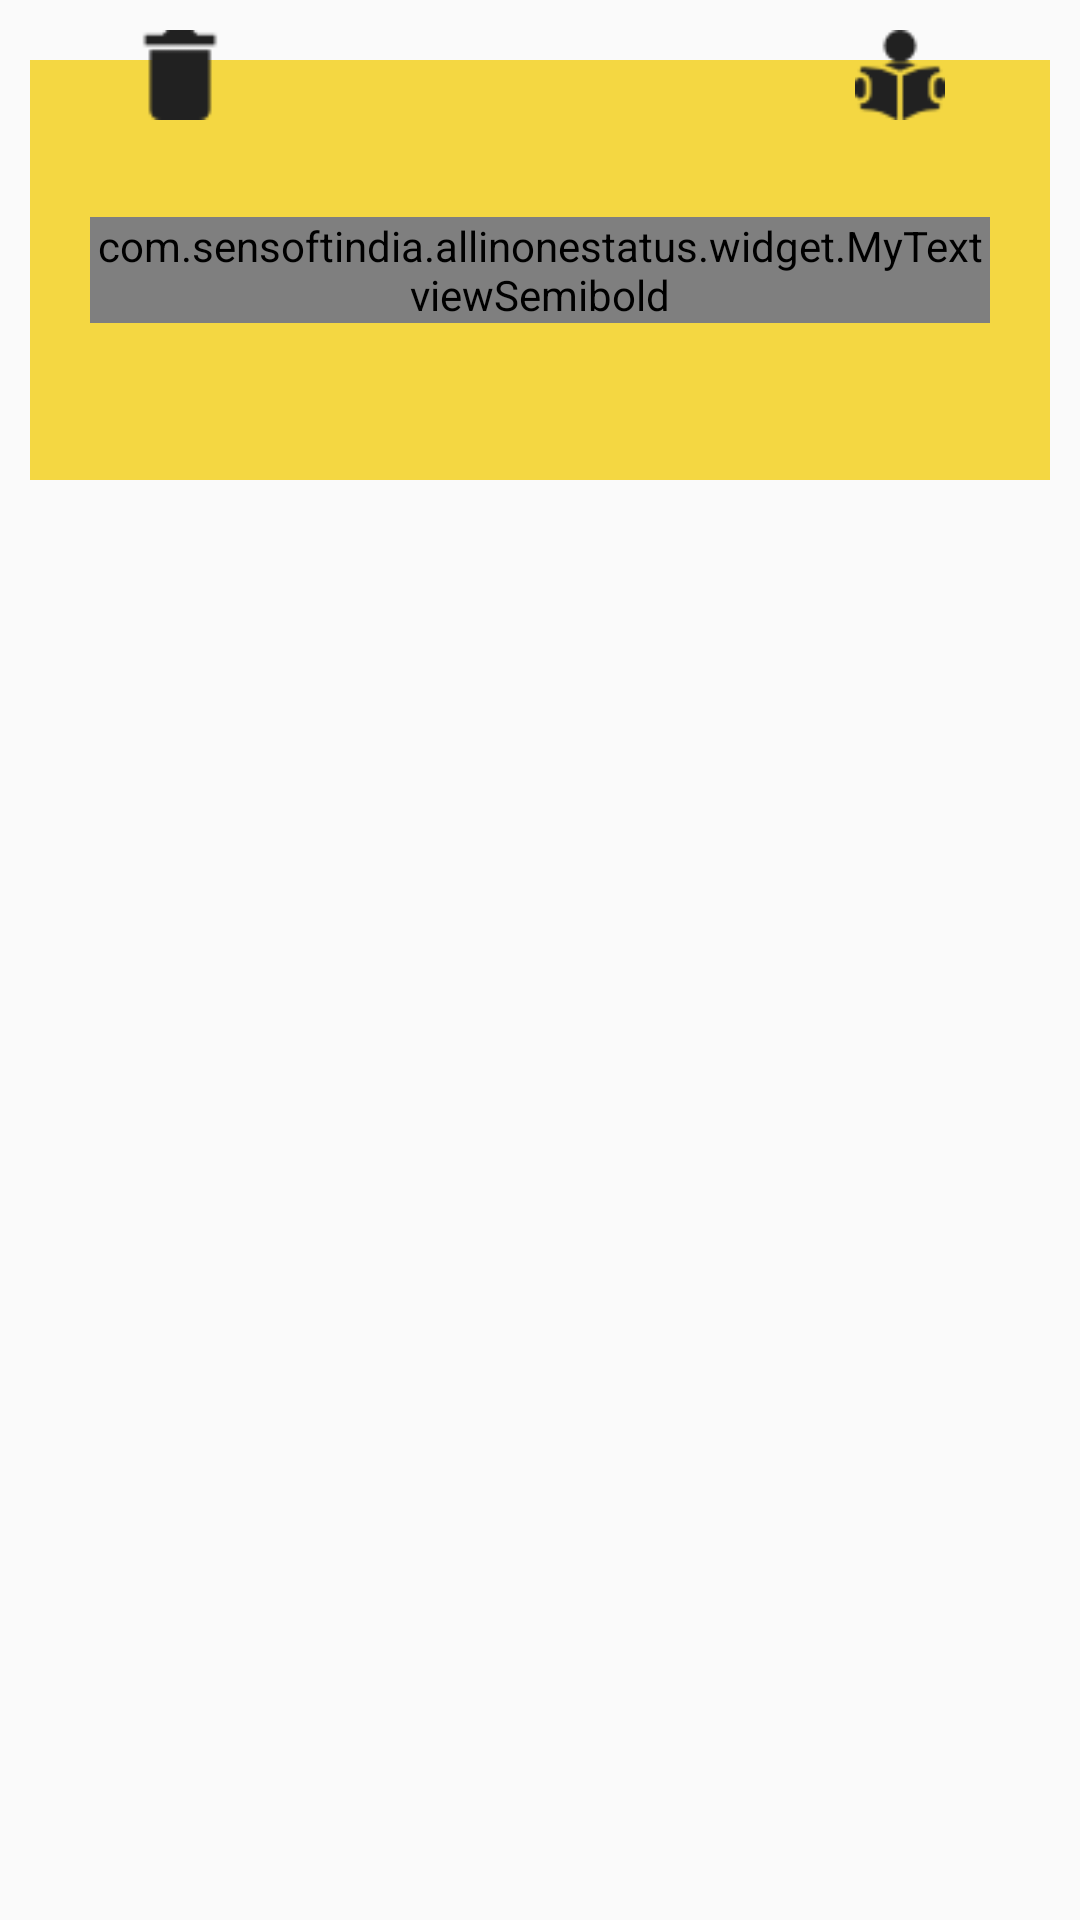

Icons on this 1080x1920 Android screen, each with the point to tap as (x=x, y=y):
delete status: (x=180, y=60)
read: (x=900, y=60)
